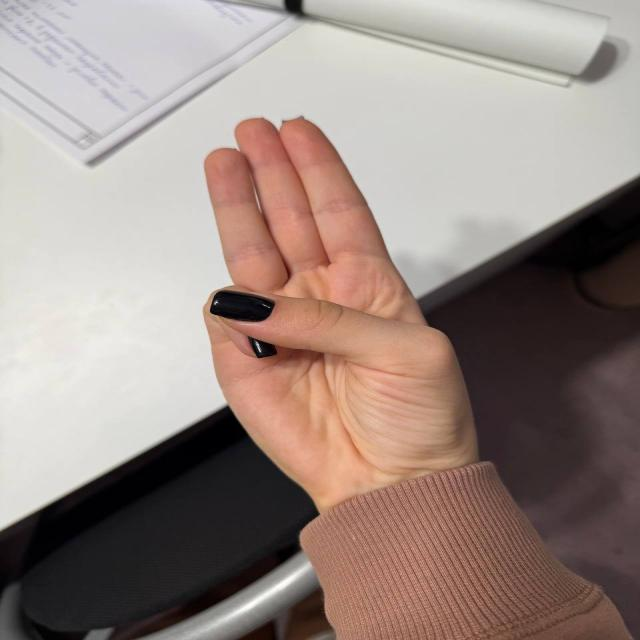sh: (164, 127, 506, 473)
